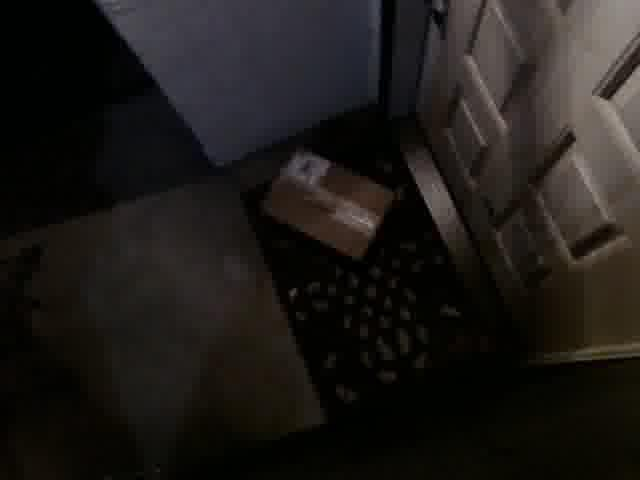box: (259, 144, 395, 265)
